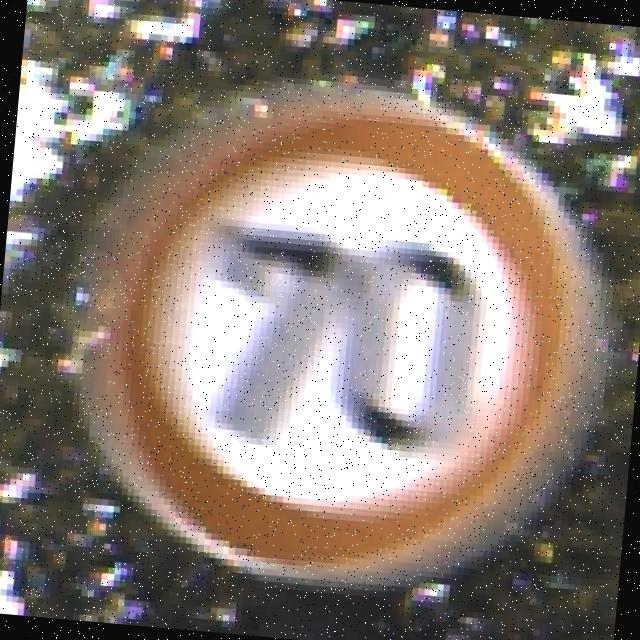Ograniczenie predkosci do 70: (81, 80, 584, 590)
